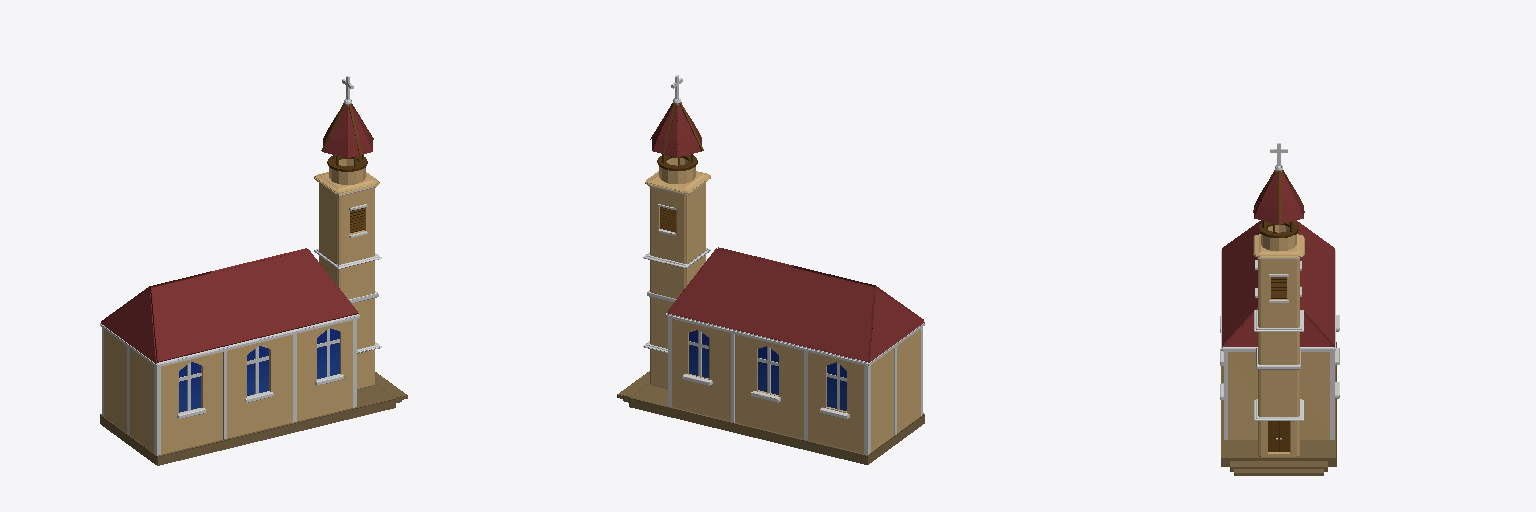
The picture shows the model from 3 angles: view 1: azimuth 30°, elevation 25°; view 2: azimuth 150°, elevation 25°; view 3: azimuth 270°, elevation 25°; orthographic projection.
Bounding box in the file's own units: 574 × 670 × 230.
Materials: 1 (1 with a texture image).